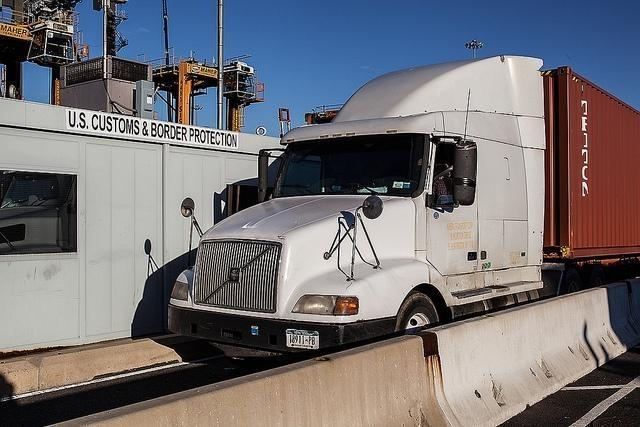truck: (166, 56, 640, 362)
